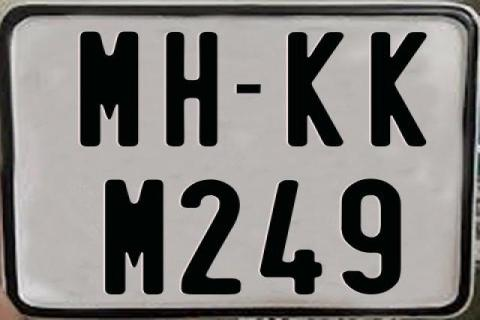0: (258, 180, 326, 296), (338, 178, 399, 298), (181, 180, 243, 298)
H: (166, 31, 219, 146)
K: (285, 32, 343, 151), (371, 31, 427, 145)
M: (104, 178, 168, 298), (77, 31, 138, 147)
